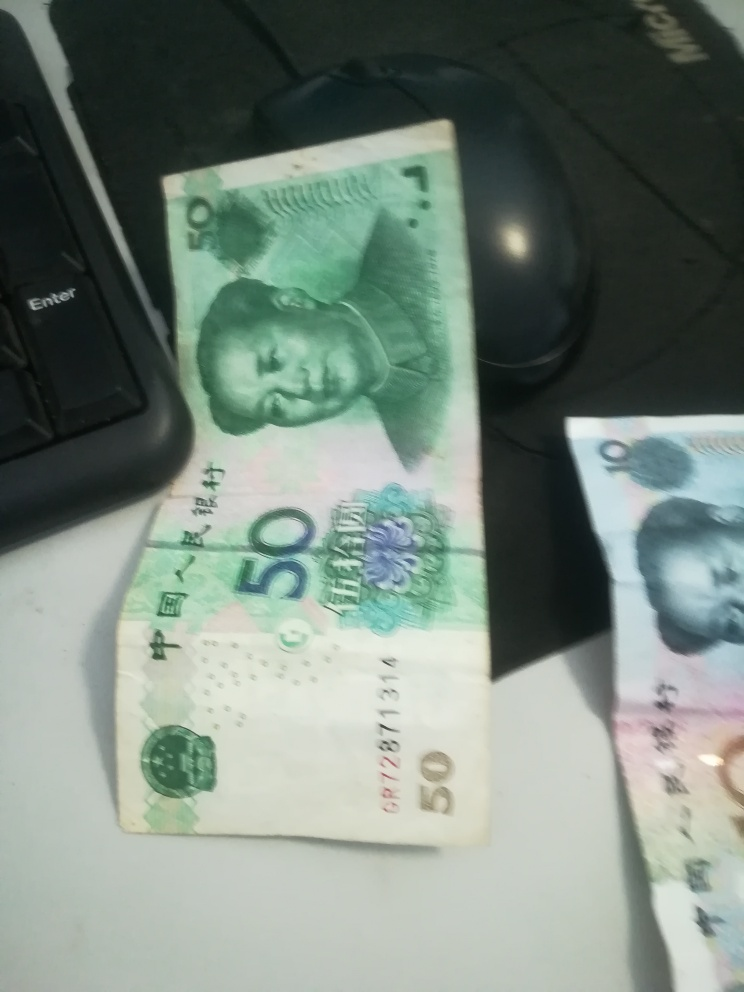rmb: (122, 117, 495, 849), (554, 408, 741, 992)
